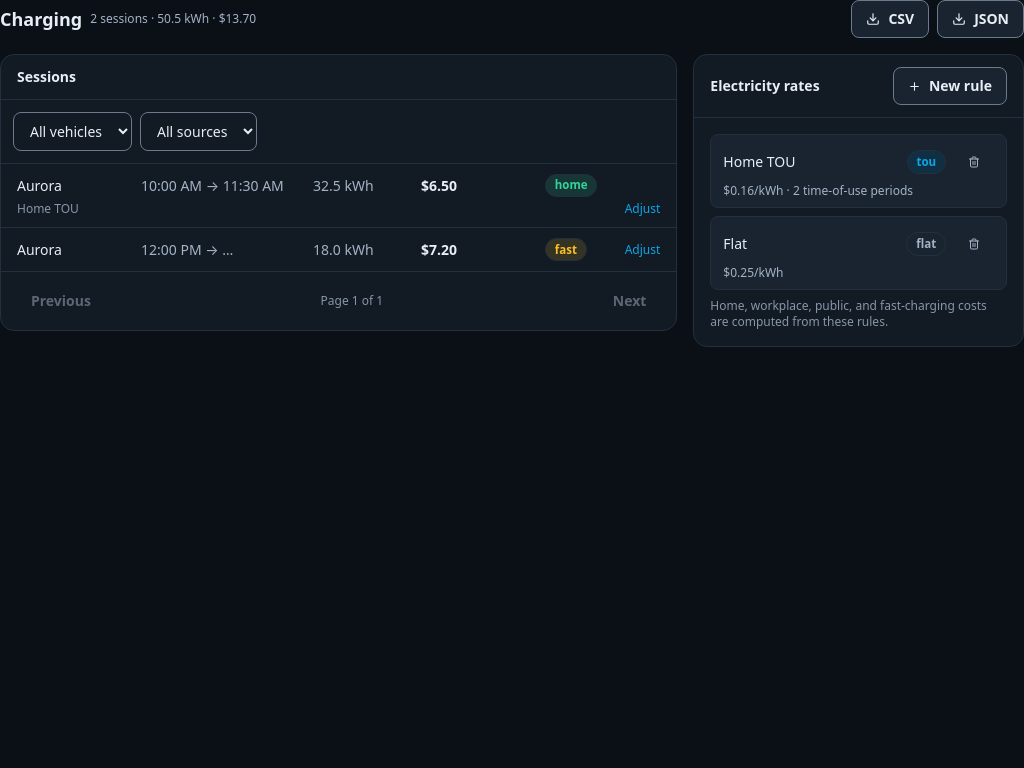
Scenario: ChargingPage › creates a time-of-use rate rule from the modal
Expected: the heading "Electricity rates" is shown, [710,76,820,96]
Click the button "New rule" at (950, 86), box [893,67,1007,105]
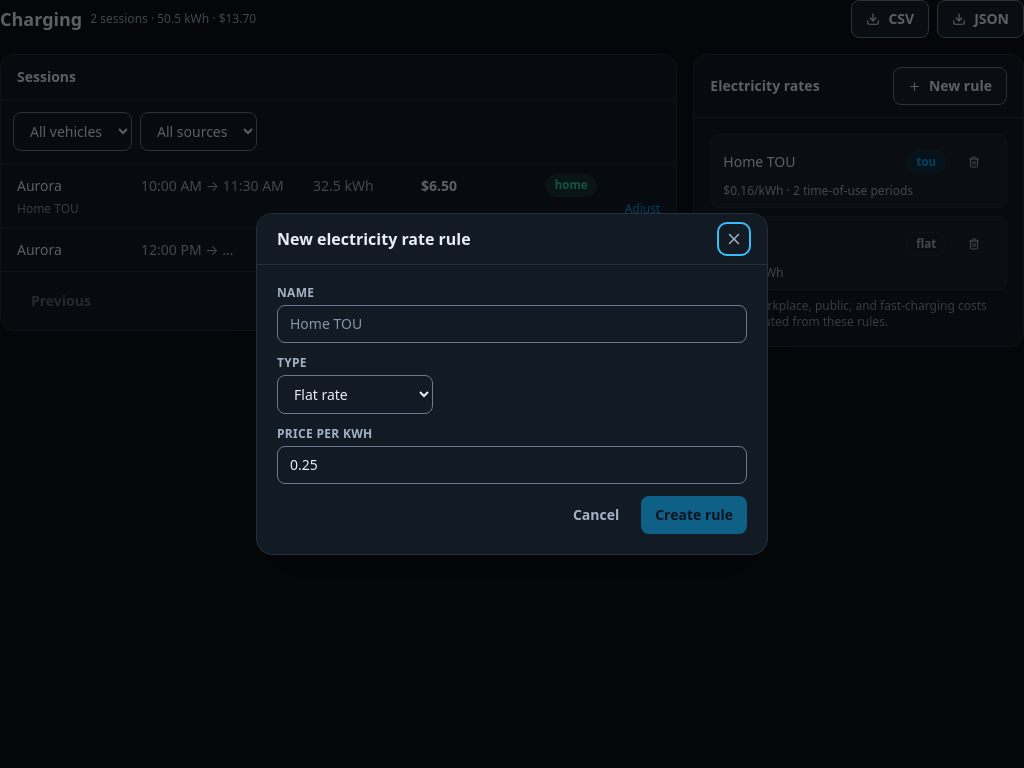
Expected: the heading "New electricity rate rule" is shown, [277,227,471,251]
Type "My TOU" into the field with placeholder "Home TOU" at (512, 324), box [277,305,747,343]
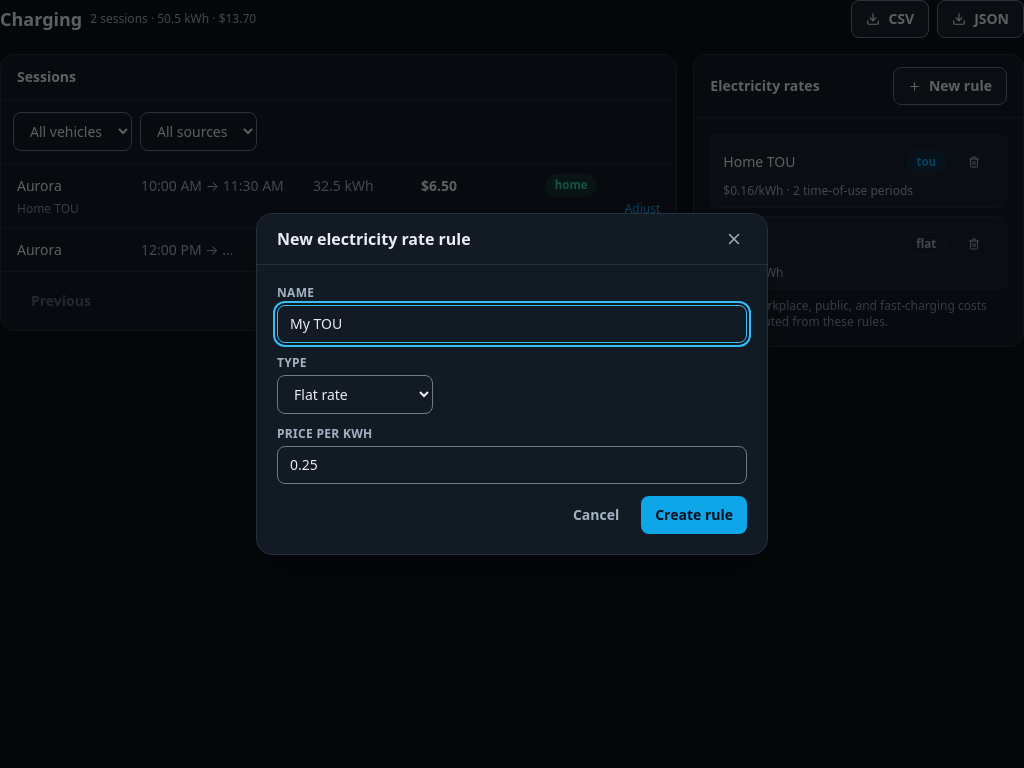
Select "Time-of-use" in the dropdown showing "Flat rate" at (355, 394), box [277,375,433,414]
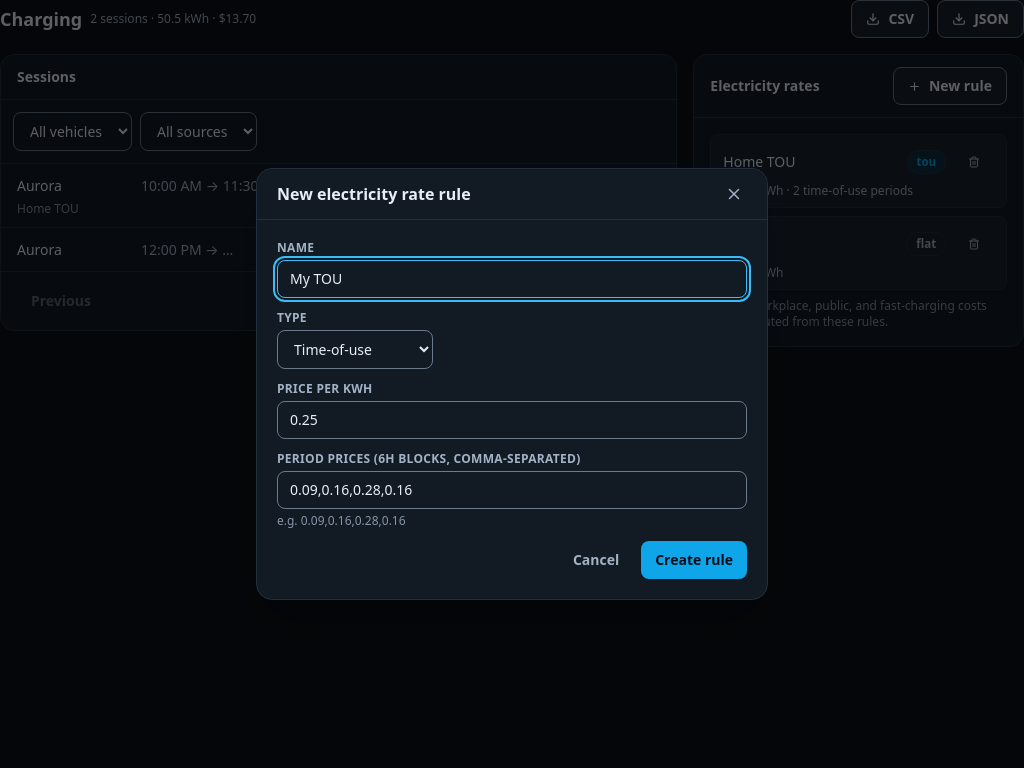
Replace the text in the field showing "0.09,0.16,0.28,0.16" with "0.1,0.2,0.3,0.4" at (512, 490), box [277,471,747,509]
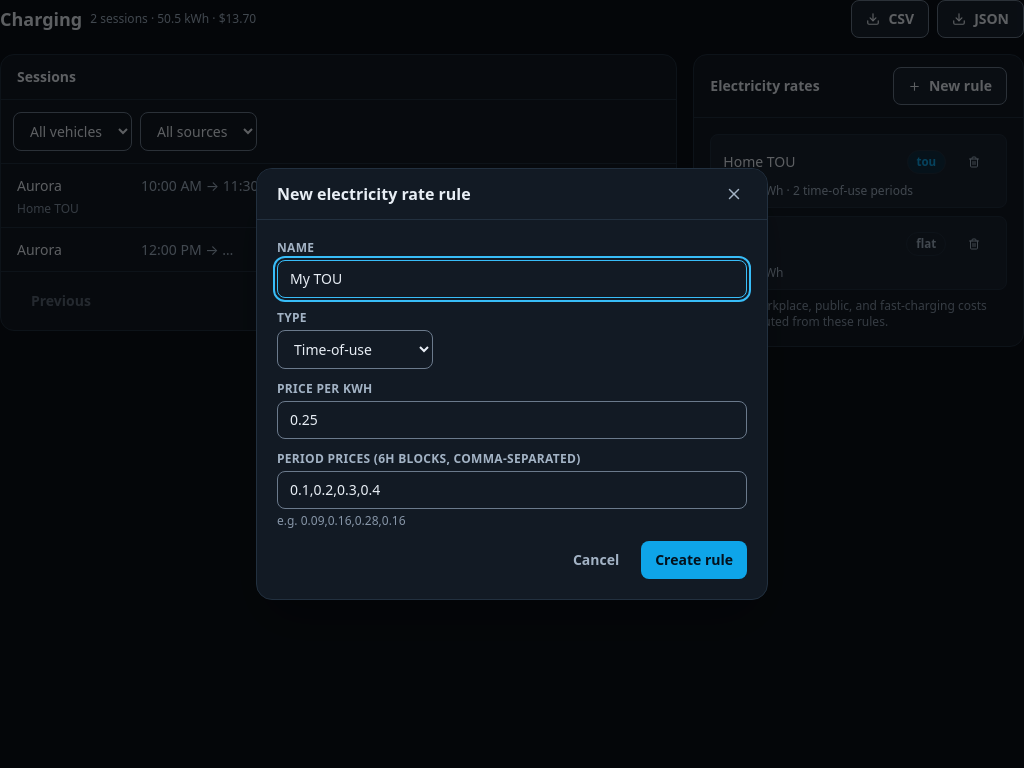
Click the button "Create rule" at (694, 560), box [641,541,747,579]
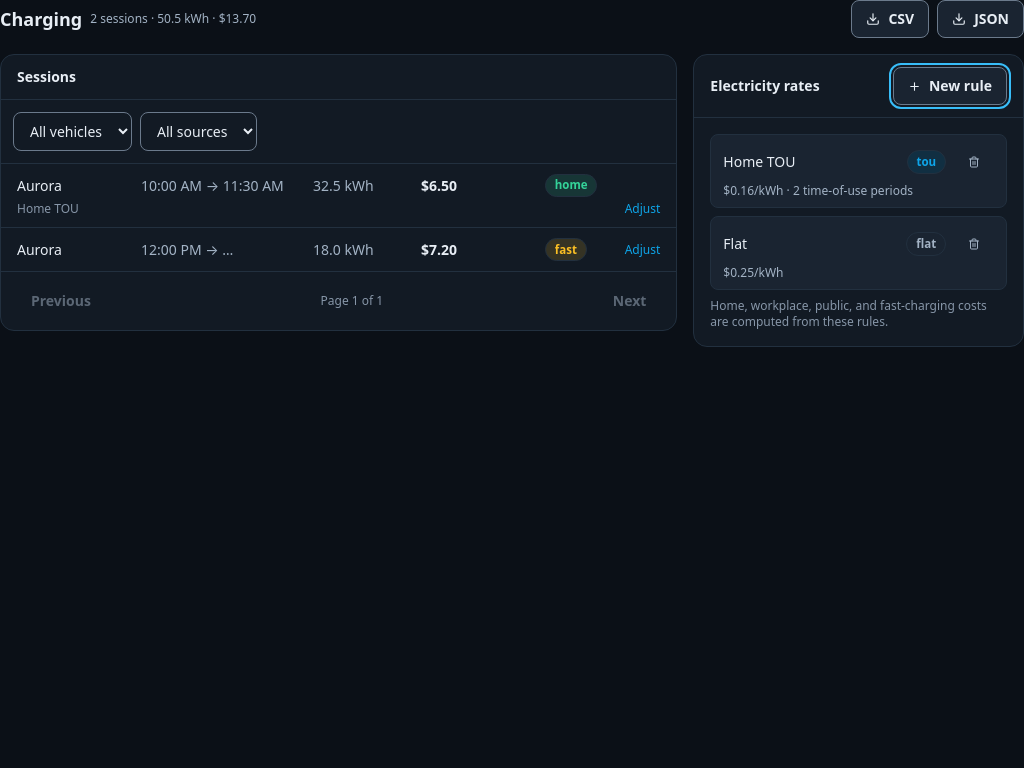
Expected: the text "tou" is shown, [907,150,946,174]
Expected: the heading "New electricity rate rule" is gone
